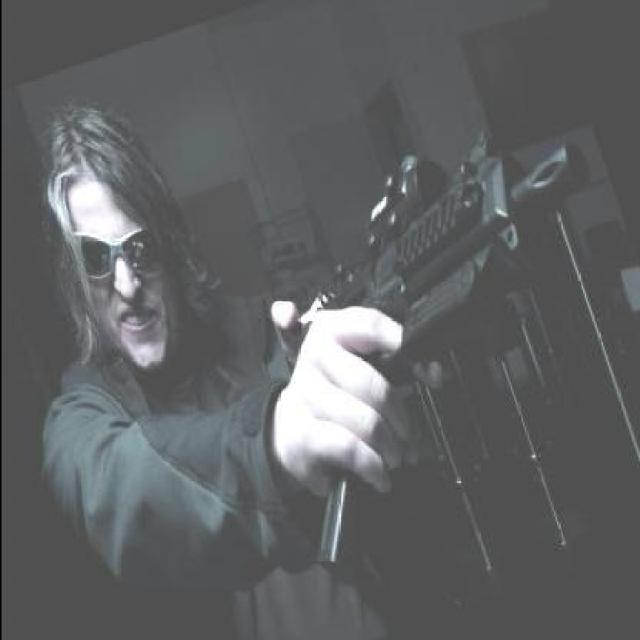Rifle: (248, 135, 601, 586)
